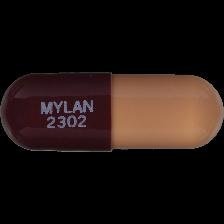0378-2302: (0, 0, 224, 224)
